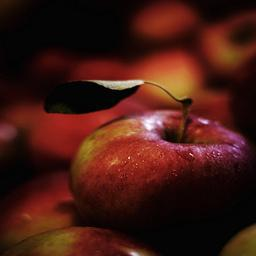apple: (73, 108, 252, 243)
